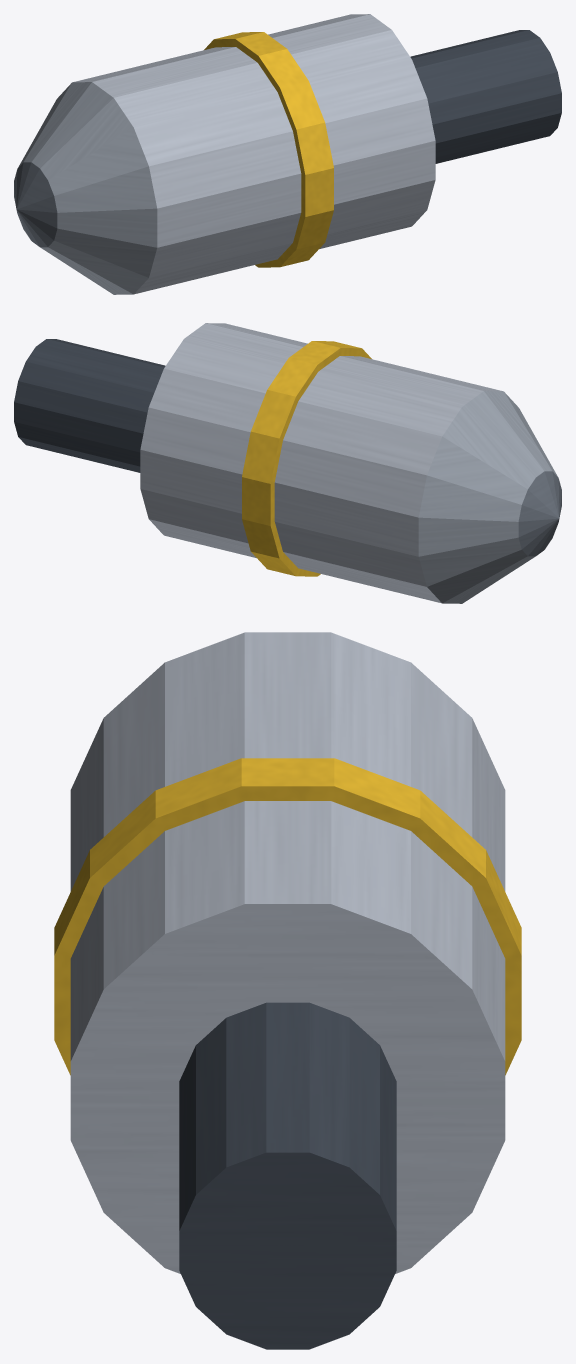
Rendered from tank_hpa_mini_v2.glb.
3 renders of one model, top to bottom at view 1: azimuth 30°, elevation 25°; view 2: azimuth 150°, elevation 25°; view 3: azimuth 270°, elevation 25°, orthographic. The views are drawn at different scales.
Parts seen in each view (by area): view 1: tank_hpa_mini_mesh; view 2: tank_hpa_mini_mesh; view 3: tank_hpa_mini_mesh.
Boxes of the visible parts, x1,y1,x2,y2 form: tank_hpa_mini_mesh: (14,14,561,294); tank_hpa_mini_mesh: (14,323,561,603); tank_hpa_mini_mesh: (54,632,521,1349).
Size of the model in its own units: 0.108 by 0.0422 by 0.0422.
5 materials, 5 textured.
